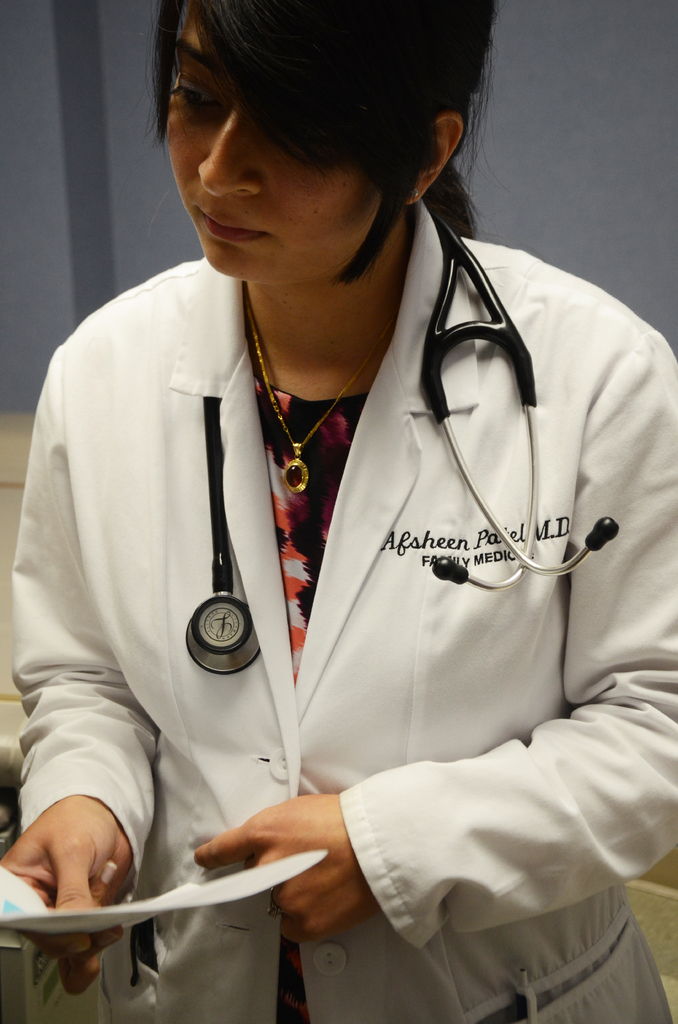Human_hand: (194, 793, 381, 943), (0, 794, 134, 994)
